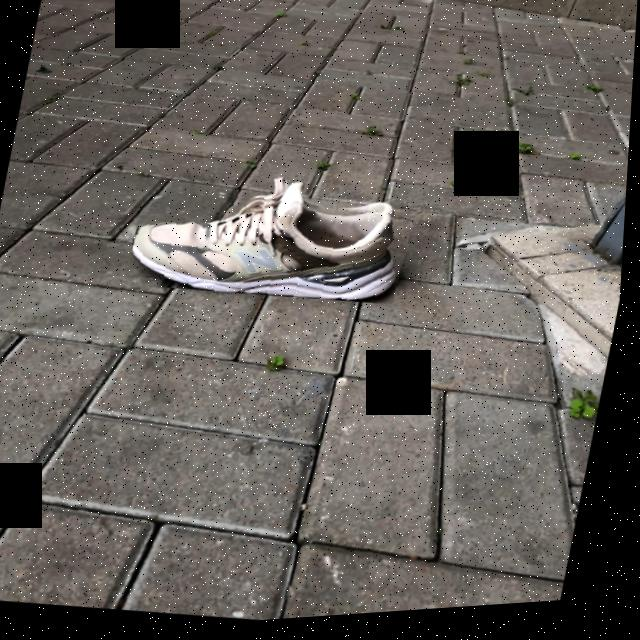shoe: (135, 207, 403, 307)
